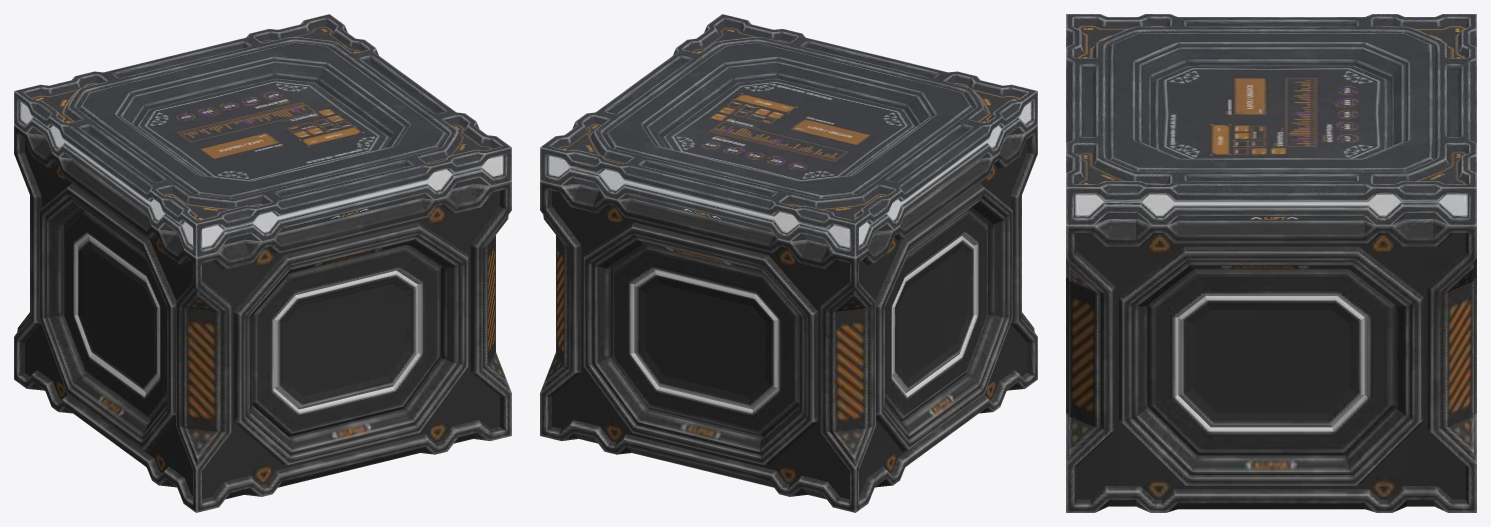
Rendered from crate.glb.
3 views of the same model, side by side, from view 1: azimuth 30°, elevation 25°; view 2: azimuth 150°, elevation 25°; view 3: azimuth 270°, elevation 25° (orthographic). The views are drawn at different scales.
Parts seen in each view (by area): view 1: StorageBoxCore_low, StorageBoxTop_low; view 2: StorageBoxCore_low, StorageBoxTop_low; view 3: StorageBoxCore_low, StorageBoxTop_low.
Boxes of the visible parts, bbox=[...] form: StorageBoxCore_low: bbox=[14, 125, 511, 512]; StorageBoxTop_low: bbox=[14, 14, 511, 258]; StorageBoxCore_low: bbox=[540, 125, 1037, 512]; StorageBoxTop_low: bbox=[540, 14, 1037, 258]; StorageBoxCore_low: bbox=[1066, 219, 1476, 512]; StorageBoxTop_low: bbox=[1066, 14, 1476, 225].
Size of the model in its own units: 0.7979 by 0.6974 by 0.7979.
Materials: 2 (2 with a texture image).
